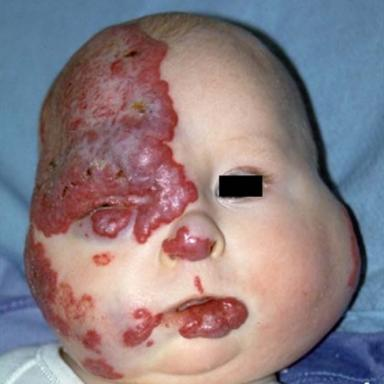Hemangiome: (26, 24, 197, 334), (179, 298, 247, 339), (162, 226, 211, 261), (124, 308, 164, 347), (83, 358, 124, 379), (82, 330, 102, 354)
